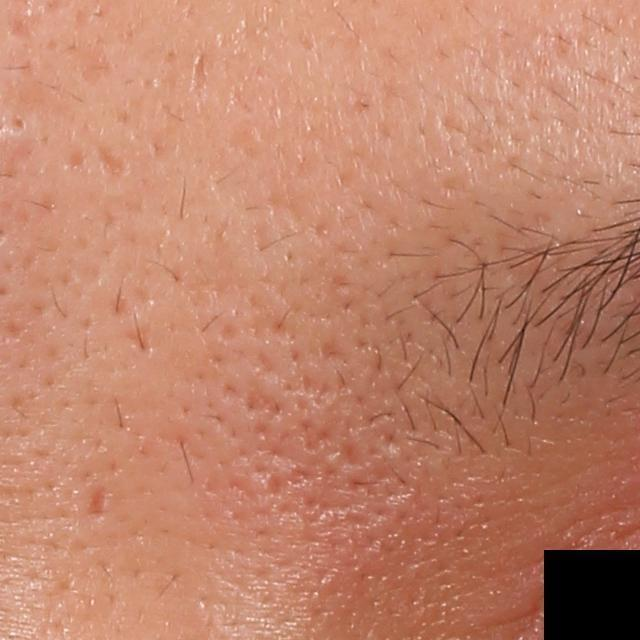atrophic_scar: (64, 32, 114, 83), (185, 44, 208, 101), (83, 484, 110, 519)
comedo: (11, 112, 32, 135)
